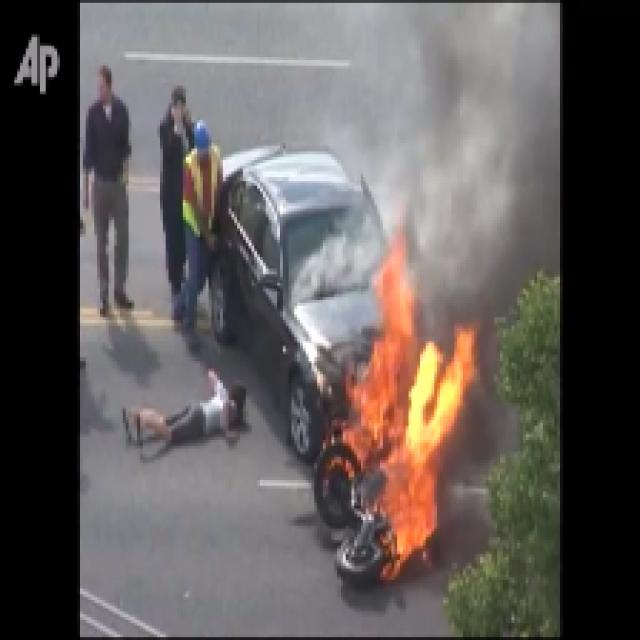fire: (345, 338, 450, 554)
smoke: (417, 21, 557, 275)
